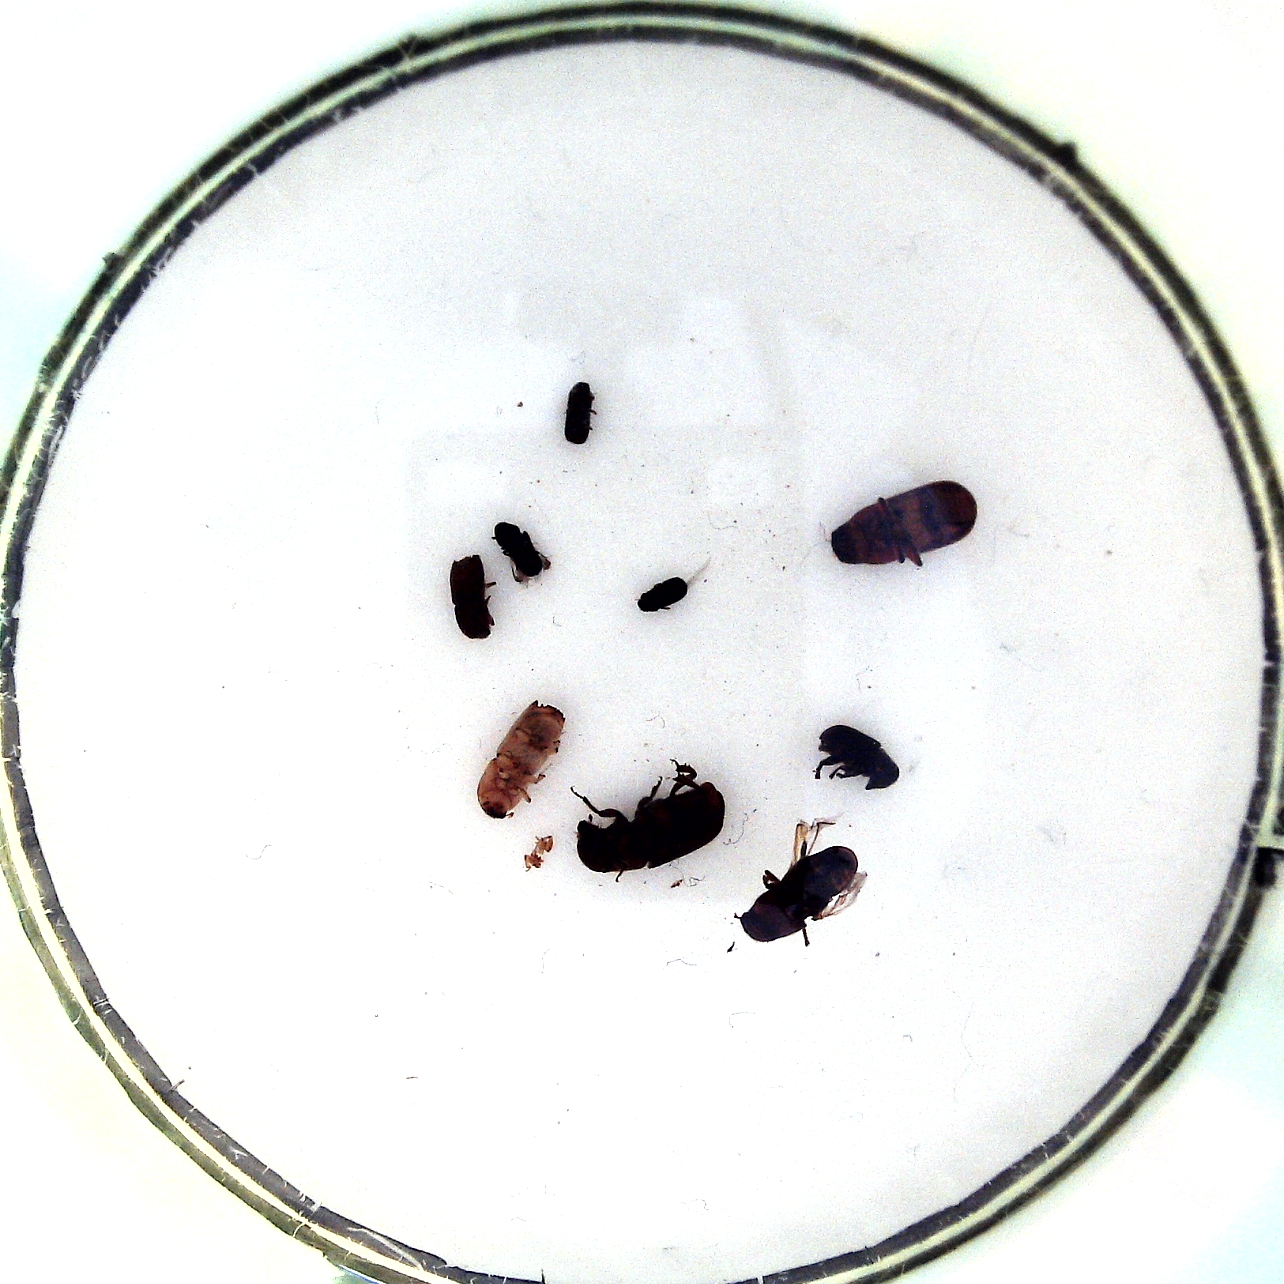Boerner: (466, 697, 577, 822)
Leconte: (564, 753, 733, 881), (728, 810, 880, 949), (821, 477, 990, 577)
Linnaeus: (444, 549, 504, 646)
armandi: (810, 718, 907, 800)
coleoptera: (484, 515, 561, 589), (628, 559, 721, 617), (561, 376, 606, 449)
